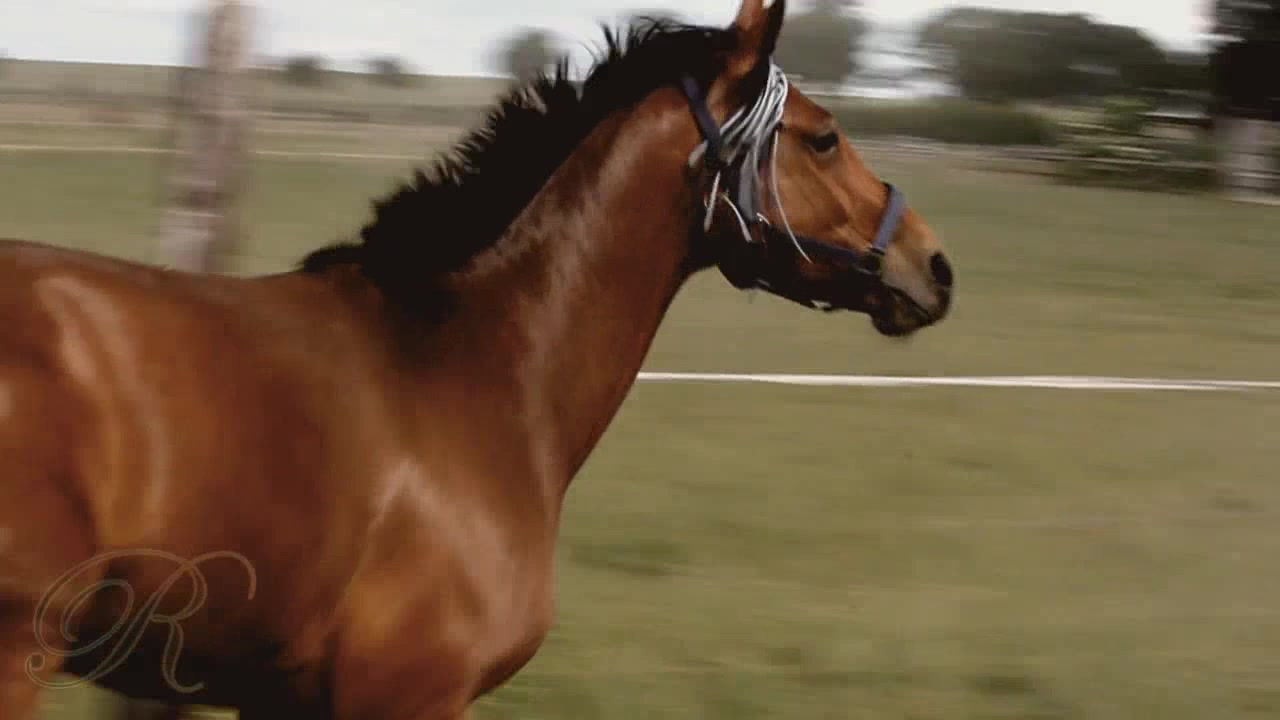horse: (1, 1, 959, 720)
